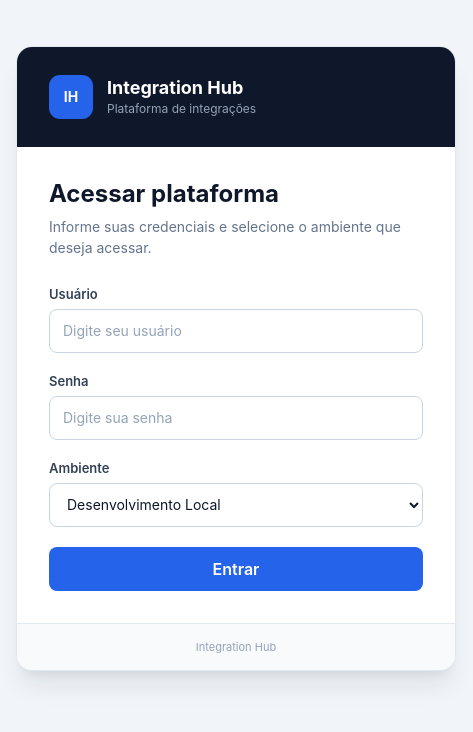
it: LoginPage › valida usuário e senha antes de enviar
The width and height of the screenshot is (473, 732).
Click the button "Entrar". click: (236, 568)
box: [49,546,423,590]
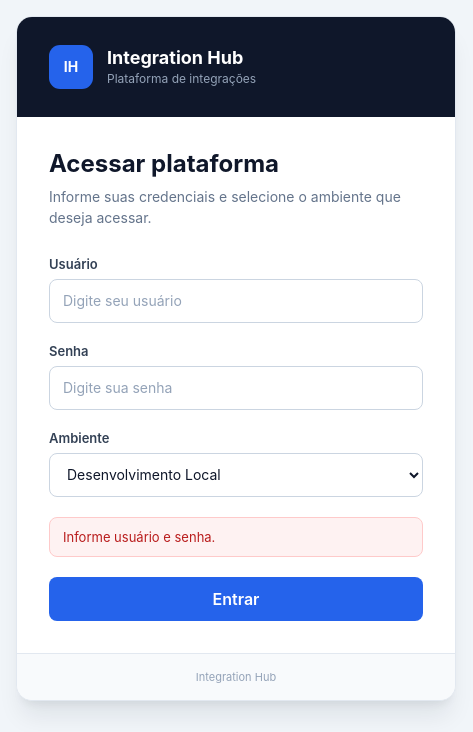
Now the message reads "Informe usuário e senha.", box [63,528,215,544]
